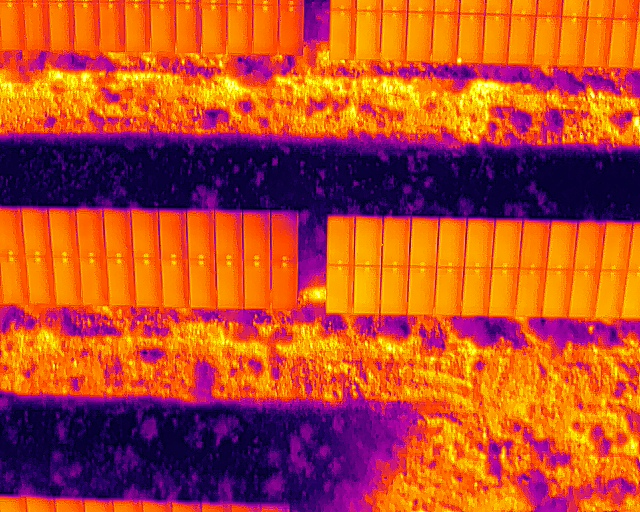photovoltaic_panels: (325, 214, 639, 319), (2, 205, 302, 309), (328, 3, 636, 65), (3, 2, 306, 56)
single_spot: (456, 15, 481, 63)
